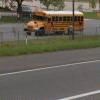Bus: (30, 8, 88, 34)
